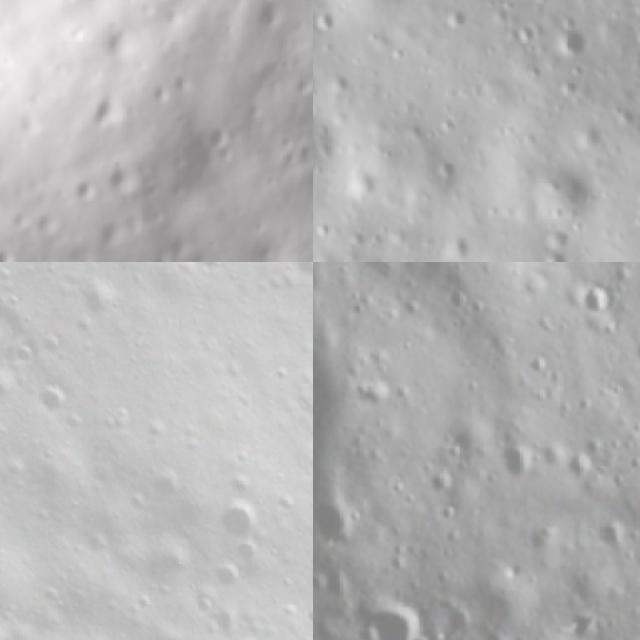crater: (213, 496, 273, 556), (354, 595, 425, 640), (313, 494, 363, 552), (550, 16, 602, 60), (149, 462, 196, 510), (75, 272, 120, 322), (500, 437, 542, 490), (90, 86, 132, 132), (210, 554, 253, 598), (32, 379, 74, 418), (426, 460, 460, 506), (225, 466, 264, 505), (254, 0, 296, 34), (106, 164, 144, 201), (594, 516, 630, 554), (344, 169, 382, 203), (233, 534, 267, 572), (9, 338, 45, 372), (40, 328, 74, 363), (580, 282, 611, 320), (211, 606, 246, 638), (192, 588, 223, 622), (84, 532, 115, 565), (313, 49, 332, 100), (72, 174, 102, 206), (276, 487, 306, 519), (70, 314, 102, 344), (38, 583, 67, 612), (313, 149, 329, 200), (446, 3, 472, 34), (205, 123, 234, 149), (277, 150, 306, 175), (0, 241, 23, 262), (295, 262, 313, 286), (298, 138, 313, 166), (0, 619, 19, 640), (302, 599, 313, 631)
